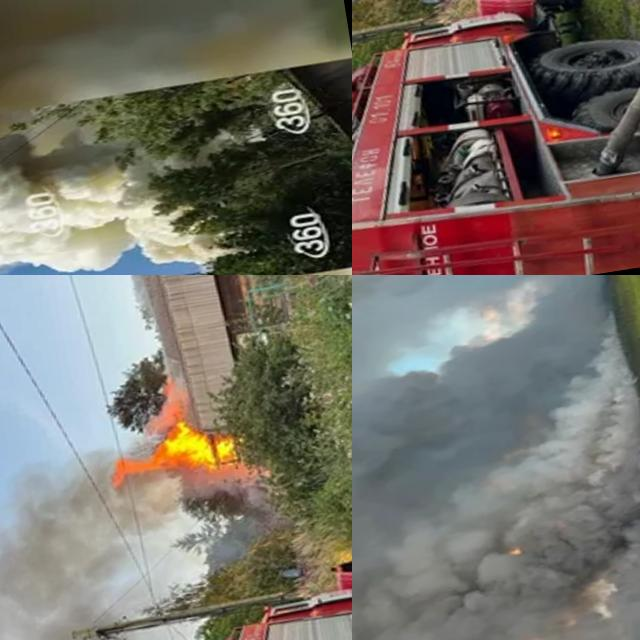smoke: (352, 275, 640, 640), (0, 83, 221, 275), (0, 432, 213, 619)
